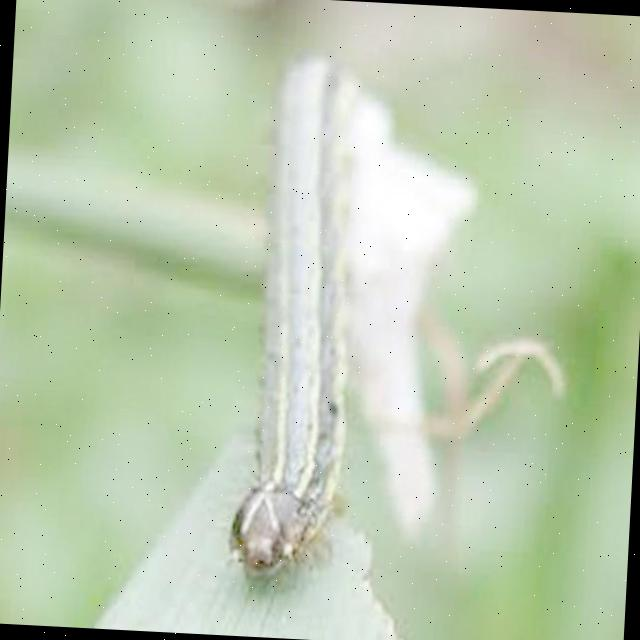worm: (228, 52, 371, 585)
